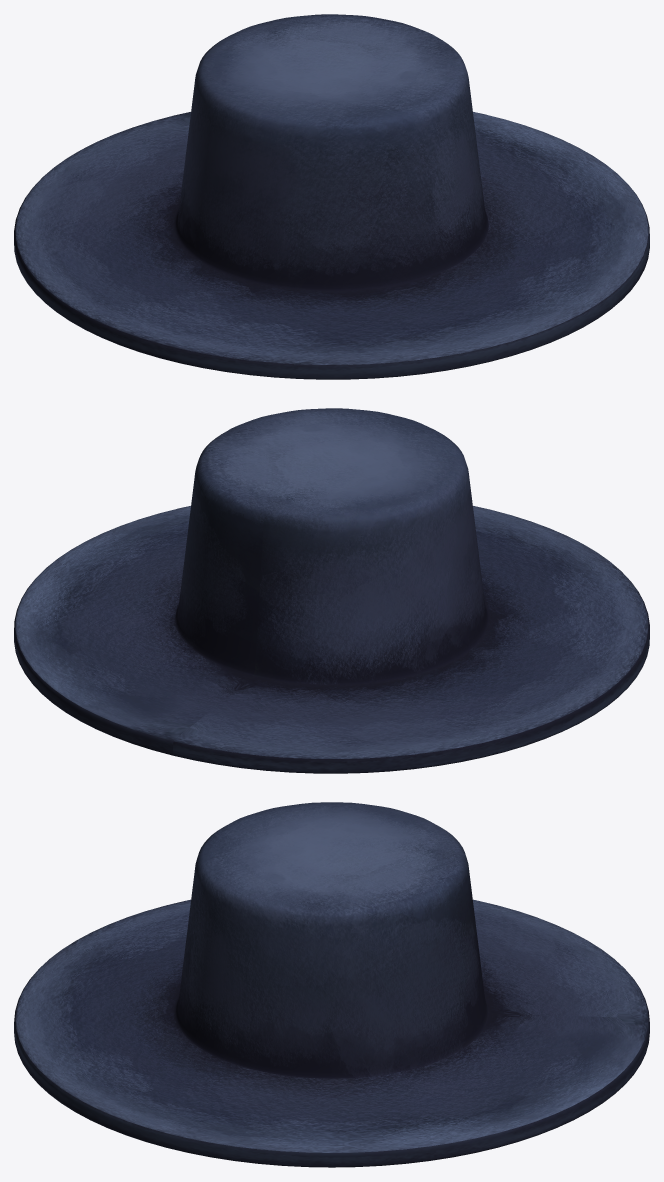
The model's file is PR_Tophat_01.fbx.
The picture shows the model from 3 angles, top to bottom: view 1: azimuth 30°, elevation 25°; view 2: azimuth 150°, elevation 25°; view 3: azimuth 270°, elevation 25°; orthographic projection.
Parts seen in each view (by area): view 1: PR_Tophat_01; view 2: PR_Tophat_01; view 3: PR_Tophat_01.
Boxes of the visible parts, x1=… form: PR_Tophat_01: x1=14, y1=14, x2=649, y2=379; PR_Tophat_01: x1=14, y1=408, x2=649, y2=773; PR_Tophat_01: x1=14, y1=802, x2=649, y2=1167.
Bounding box in the file's own units: 99.55 × 31.01 × 99.55.
